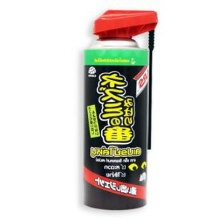aerosol_cans: (74, 4, 162, 214)
